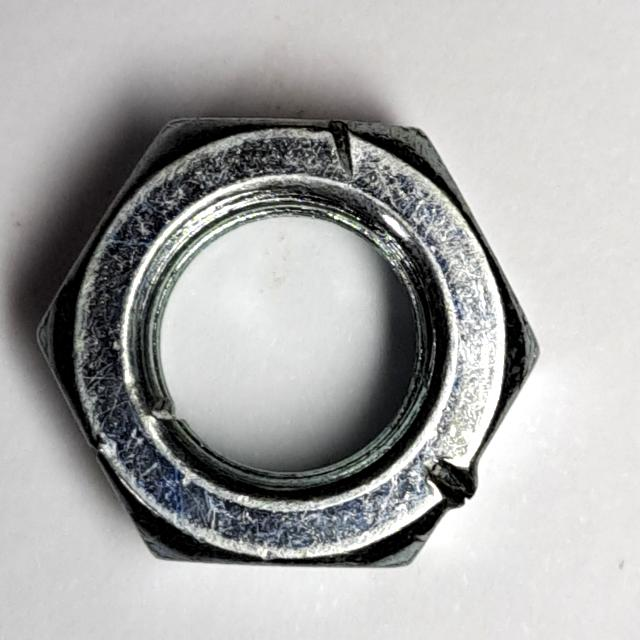Scratches: (19, 98, 550, 589)
